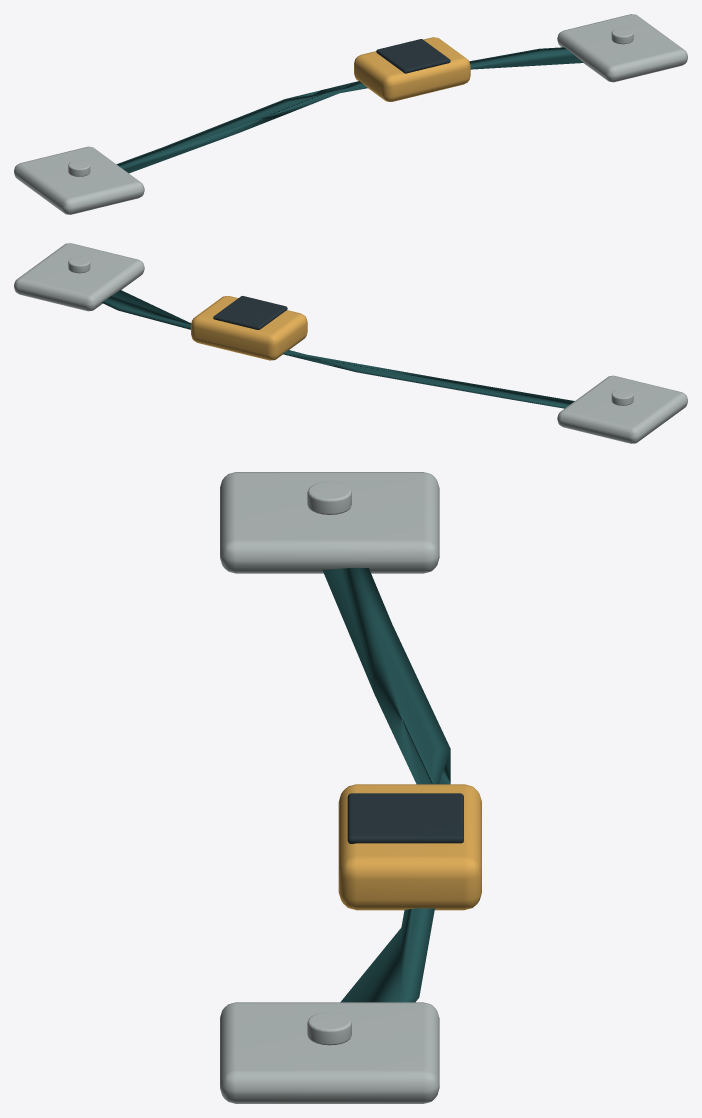
The model's file is SafetyStrap.fbx.
3 views of the same model, one above another, from view 1: azimuth 30°, elevation 25°; view 2: azimuth 150°, elevation 25°; view 3: azimuth 270°, elevation 25° (orthographic). The views are drawn at different scales.
Parts seen in each view (by area): view 1: Surface_KKTC_Metal, Surface_KKTC_CanvasDeep, Surface_KKTC_Ochre, Surface_KKTC_Rubber; view 2: Surface_KKTC_Metal, Surface_KKTC_Ochre, Surface_KKTC_CanvasDeep, Surface_KKTC_Rubber; view 3: Surface_KKTC_Metal, Surface_KKTC_CanvasDeep, Surface_KKTC_Ochre, Surface_KKTC_Rubber.
Part boxes in pixels (x1,y1,x2,y2): Surface_KKTC_Metal: (14,14,687,214); Surface_KKTC_CanvasDeep: (116,47,583,173); Surface_KKTC_Ochre: (354,37,470,101); Surface_KKTC_Rubber: (376,39,450,73); Surface_KKTC_Metal: (14,243,687,443); Surface_KKTC_Ochre: (191,296,307,360); Surface_KKTC_CanvasDeep: (102,290,574,408); Surface_KKTC_Rubber: (213,296,287,329); Surface_KKTC_Metal: (220,472,439,1103); Surface_KKTC_CanvasDeep: (322,568,450,1002); Surface_KKTC_Ochre: (338,784,481,910); Surface_KKTC_Rubber: (347,793,463,843).
Size of the model in its own units: 32.2 by 1.7 by 5.85.
